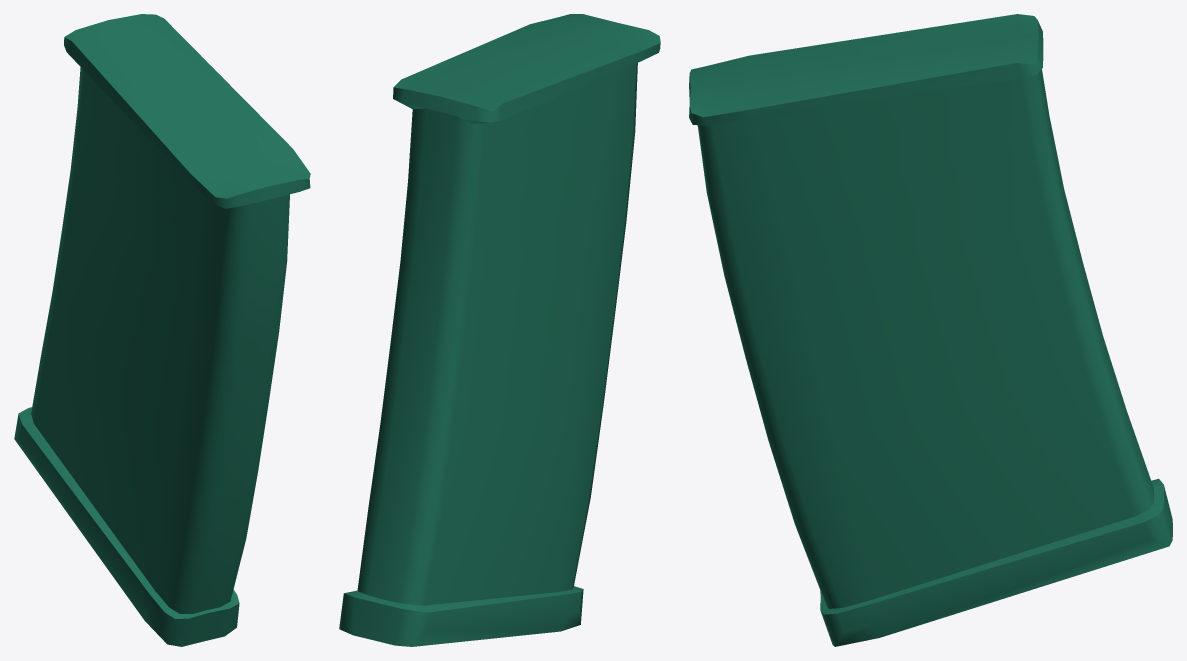
The model's file is AmmoPackage.FBX.
3 views of the same model, side by side, from view 1: azimuth 30°, elevation 25°; view 2: azimuth 150°, elevation 25°; view 3: azimuth 270°, elevation 25° (orthographic). The views are drawn at different scales.
Visible parts, largest first — view 1: Object006; view 2: Object006; view 3: Object006.
Part boxes in pixels (x1,y1,x2,y2): Object006: [14, 14, 310, 646]; Object006: [339, 14, 660, 646]; Object006: [689, 14, 1172, 646].
Size of the model in its own units: 2.37 by 12.2 by 8.95.
